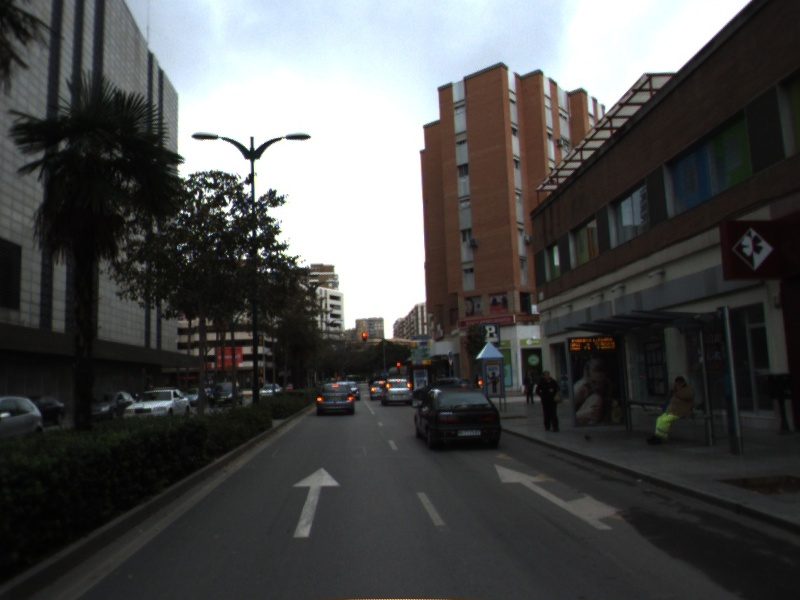STRAIGHT: (289, 464, 344, 540)
STRAIGHT_RIGHT: (492, 461, 627, 532)
